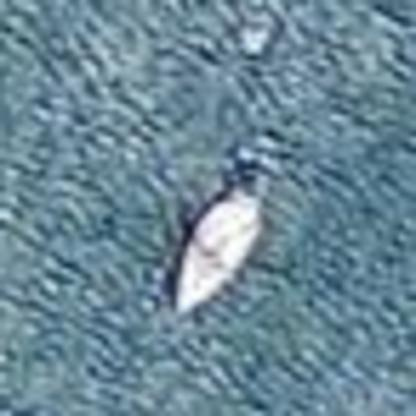ship: (164, 159, 274, 324)
